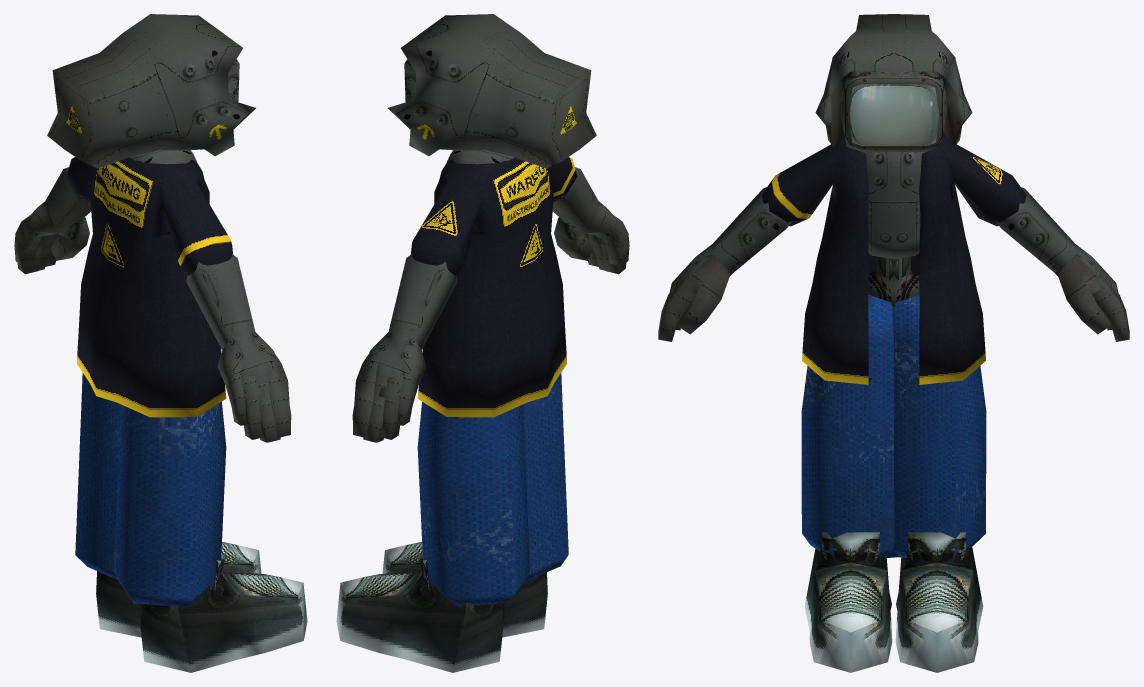
3 views of the same model, side by side, from view 1: azimuth 30°, elevation 25°; view 2: azimuth 150°, elevation 25°; view 3: azimuth 270°, elevation 25° (orthographic). The views are drawn at different scales.
Visible parts, largest first — view 1: Vest, Pants, Head, Shoes, Arms, Torso; view 2: Vest, Pants, Head, Shoes, Arms, Torso; view 3: Pants, Vest, Shoes, Head, Arms, Torso.
Part boxes in pixels (bbox=[...]): Vest: bbox=[66, 157, 232, 417]; Pants: bbox=[75, 373, 226, 607]; Head: bbox=[47, 14, 255, 168]; Shoes: bbox=[96, 542, 307, 672]; Arms: bbox=[14, 167, 291, 442]; Torso: bbox=[129, 150, 197, 164]; Vest: bbox=[411, 157, 577, 417]; Pants: bbox=[417, 373, 568, 606]; Head: bbox=[388, 14, 596, 168]; Shoes: bbox=[336, 542, 547, 672]; Arms: bbox=[352, 167, 629, 442]; Torso: bbox=[446, 150, 514, 164]; Pants: bbox=[801, 295, 986, 558]; Vest: bbox=[761, 133, 1026, 384]; Shoes: bbox=[804, 532, 983, 672]; Head: bbox=[815, 14, 972, 151]; Arms: bbox=[658, 187, 1129, 341]; Torso: bbox=[863, 152, 924, 306].
Size of the model in its own units: 18.69 by 48.73 by 35.56.
